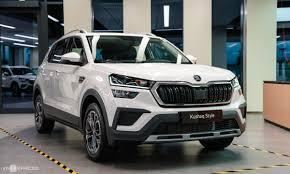skoda: (188, 71, 207, 85)
